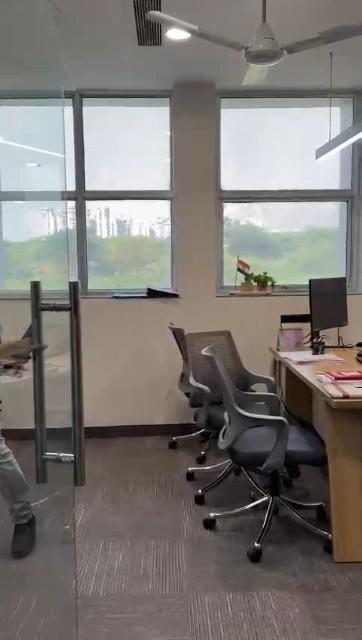floor: (77, 439, 353, 640)
moving-obj: (2, 331, 24, 561)
object: (195, 347, 335, 569), (304, 281, 362, 563), (173, 325, 275, 457)
wall: (88, 304, 168, 420), (182, 87, 220, 317), (224, 299, 278, 329)
